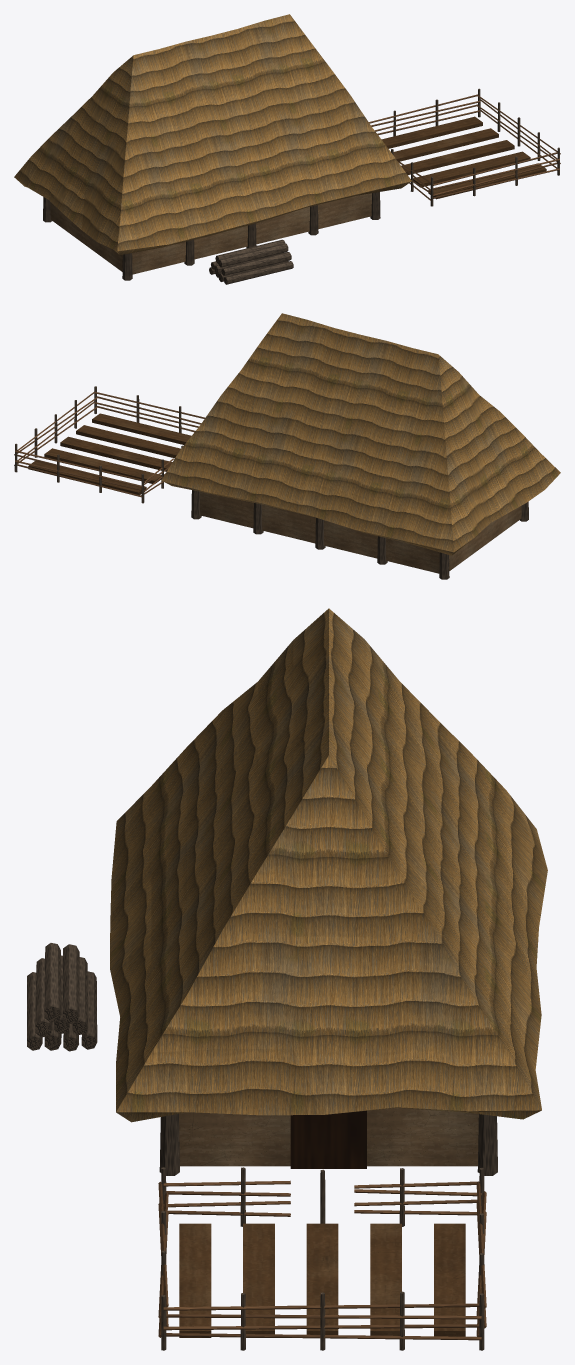
The model's file is casa_lunga_piccola_b.glb.
3 views of the same model, one above another, from view 1: azimuth 30°, elevation 25°; view 2: azimuth 150°, elevation 25°; view 3: azimuth 270°, elevation 25° (orthographic). The views are drawn at different scales.
Parts seen in each view (by area): view 1: casa_lunga_piccola_b; view 2: casa_lunga_piccola_b; view 3: casa_lunga_piccola_b.
Part boxes in pixels (x1,y1,x2,y2): casa_lunga_piccola_b: [14, 14, 560, 284]; casa_lunga_piccola_b: [14, 313, 560, 579]; casa_lunga_piccola_b: [27, 608, 547, 1350].
Bounding box in the file's own units: 16.61 × 6.46 × 8.19.
6 materials, 6 textured.
